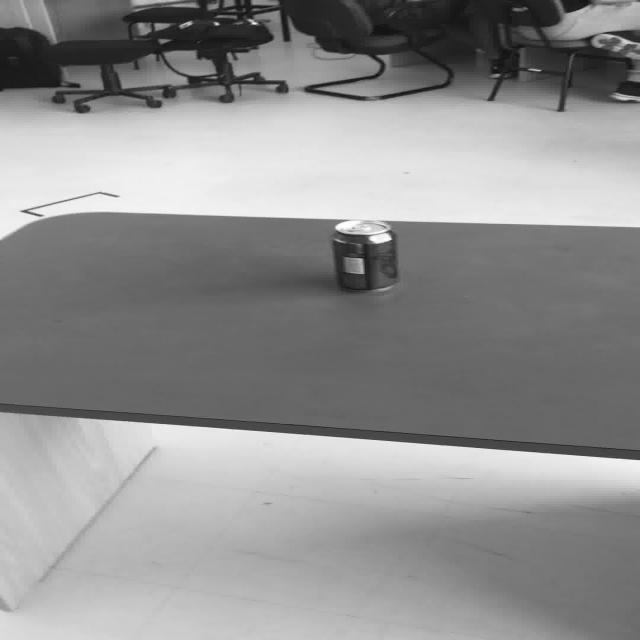tonic: (330, 218, 398, 291)
